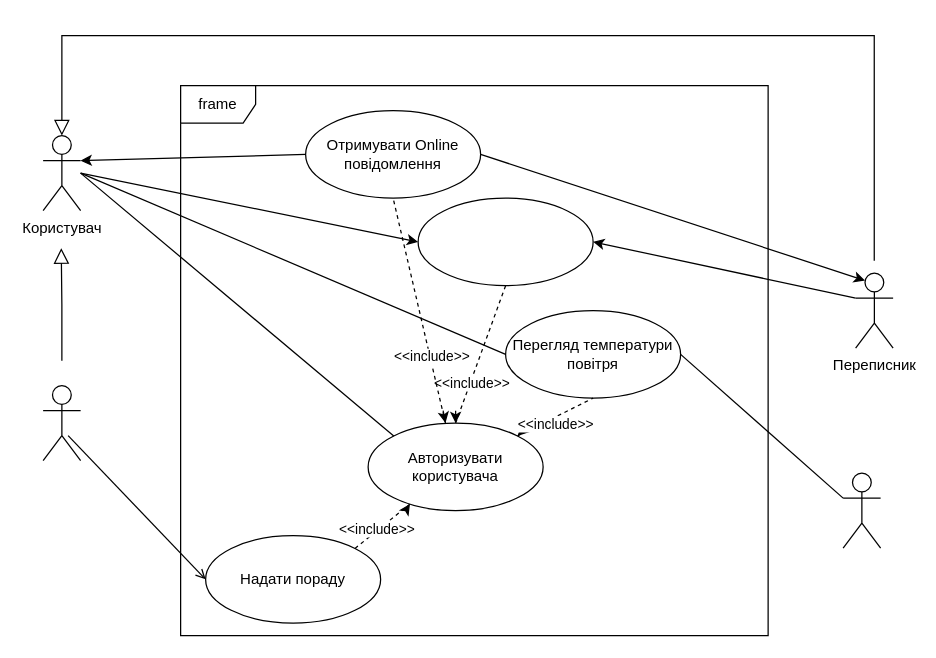
This 936x658 diagram has some shape labels left out. The shapes that lost their labels are listed below. From the top down, each one's centre as x and y in pixels, then its label:
At pixel 505 241: "Написати Online повідомлення".
At pixel 61 422: "Лікар".
At pixel 861 510: "Windy".
